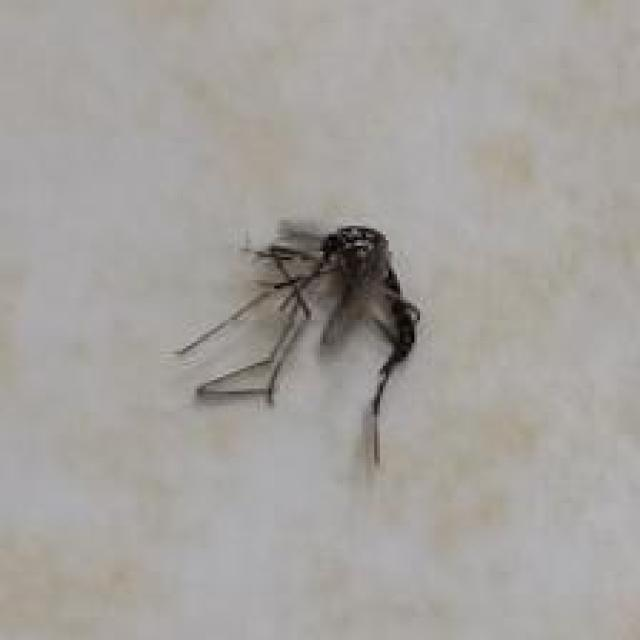Aedes albopictus: (173, 217, 421, 469)
